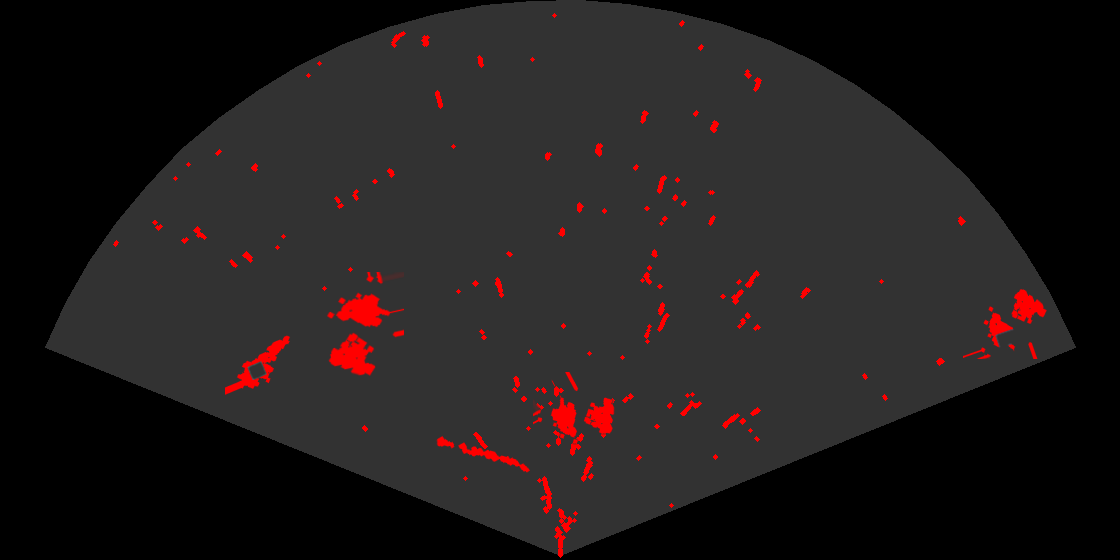cage: (325, 272, 404, 377), (963, 287, 1048, 359), (533, 372, 616, 445)
chain: (434, 435, 531, 474)
frogman: (225, 334, 292, 396)
